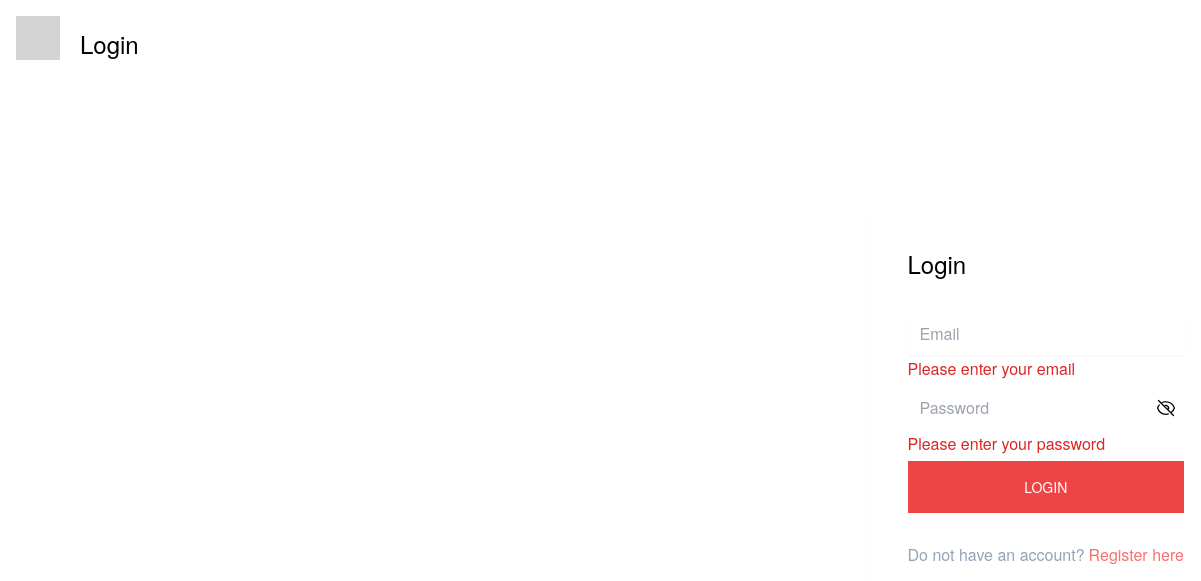
Test: Login › should show error message when email and password are invalid
Step 1. Type "testemail" into the field with placeholder "Email" → {"x": 1046, "y": 334}, box 908,312 -> 1184,355
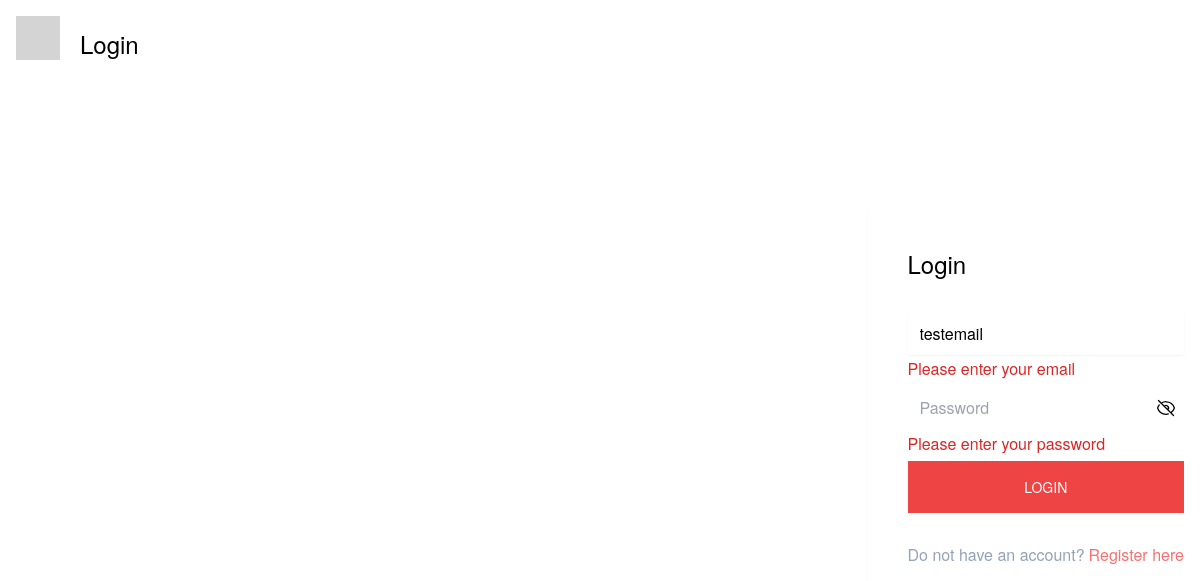
Step 2. Type "123" into the password field with placeholder "Password" → {"x": 1046, "y": 408}, box 908,386 -> 1184,430
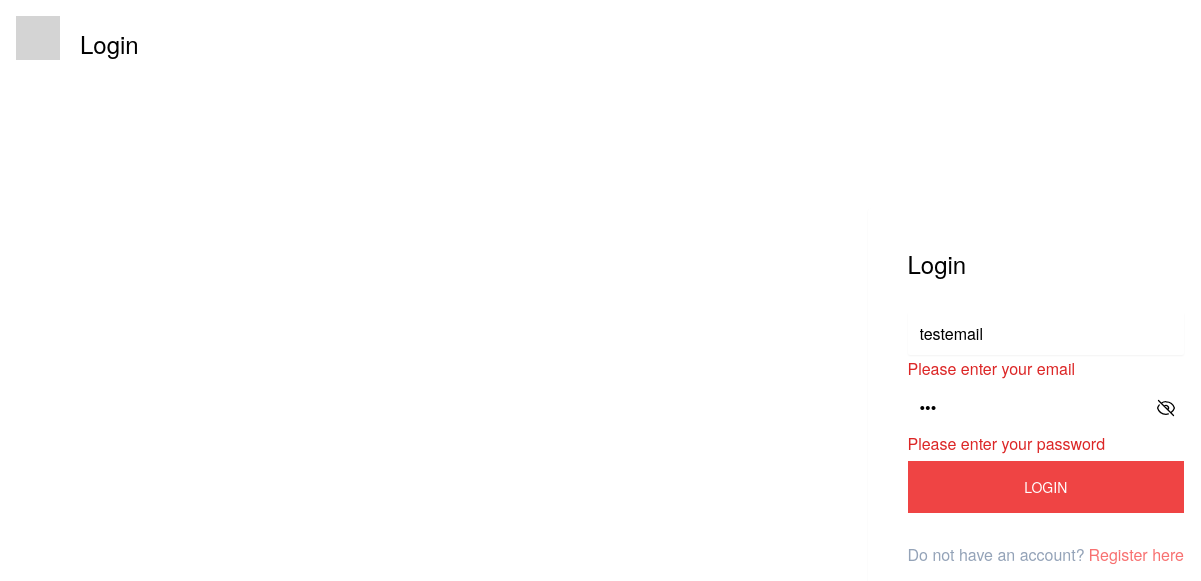
Step 3. Submit the form from the button "Login", box 908,461 -> 1184,513
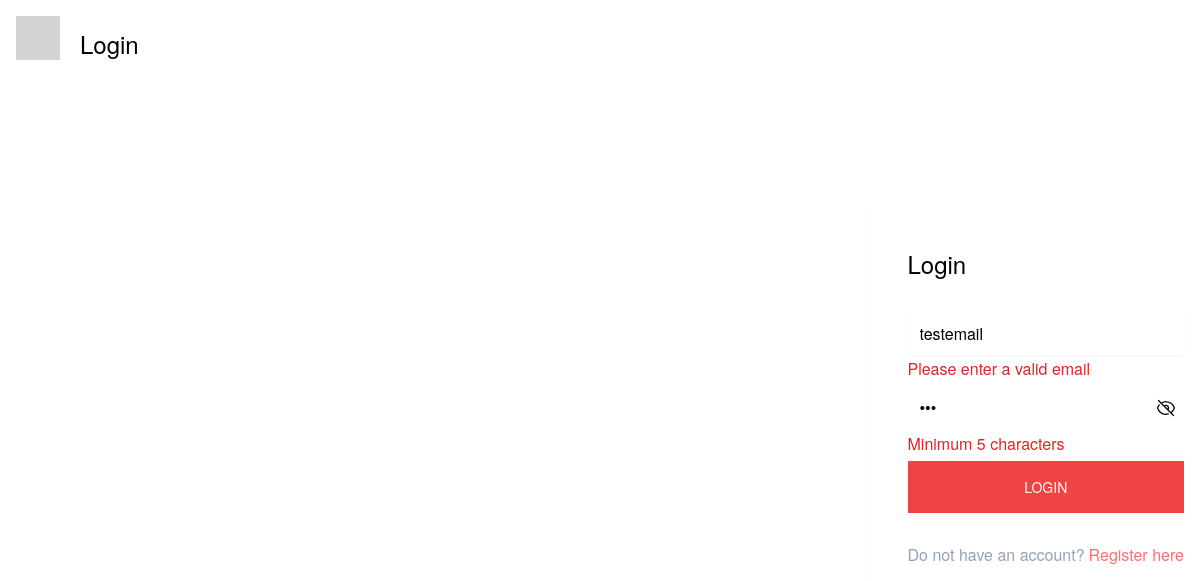
Now the text "Please enter a valid email" is shown, box 908,357 -> 1090,380
Now the text "Minimum 5 characters" is shown, box 908,432 -> 1065,455
